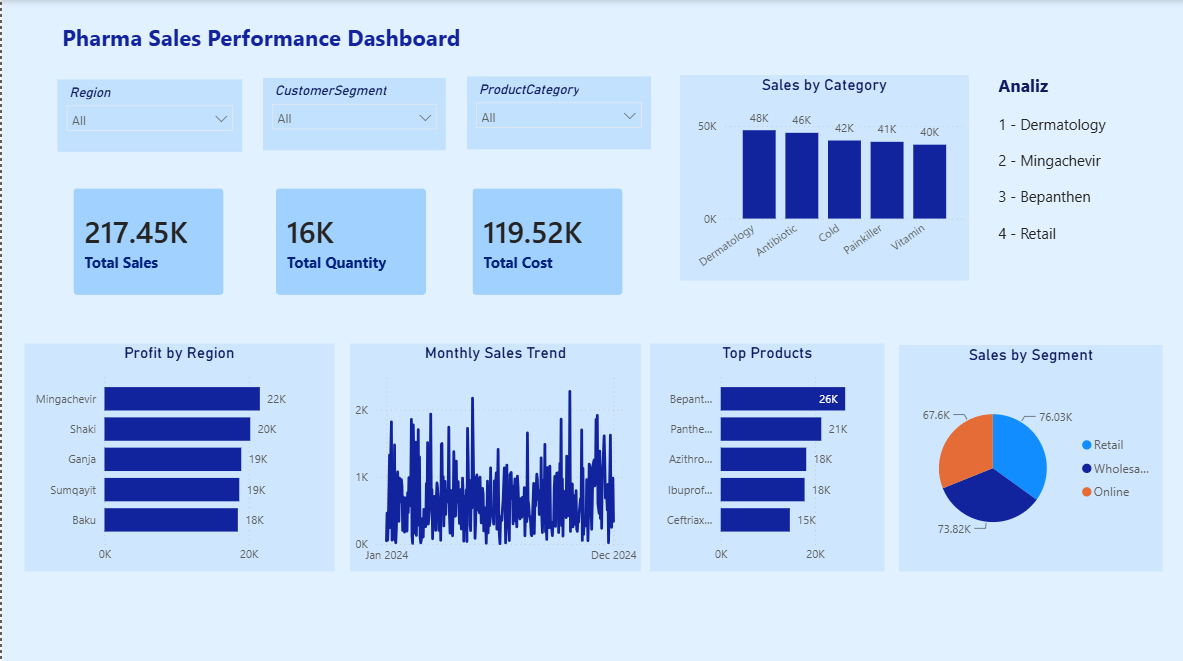

What the dashboard file says about the page in this screenshot:
{"tool":"powerbi","page":{"name":"Page 1","canvas":[1280,720],"ordinal":0},"visuals":[{"type":"slicer","fields":{"Values":["Sheet1.Region"]},"box":[59.9,85,199.2,77.7],"z":0},{"type":"slicer","fields":{"Values":["Sheet1.CustomerSegment"]},"box":[281.7,83.4,197.5,77.7],"z":1000},{"type":"cardVisual","fields":{"Data":["Sheet1.Total Sales"]},"box":[60.5,185.5,196.5,149.3],"z":3000},{"type":"cardVisual","fields":{"Data":["Sheet1.Total Quantity"]},"box":[277.8,185.5,196.5,149.3],"z":4000},{"type":"cardVisual","fields":{"Data":["Sheet1.Total Cost"]},"box":[491.3,185.5,196.5,149.3],"z":5000},{"type":"clusteredColumnChart","title":"Sales by Category","fields":{"Category":["Sheet1.ProductCategory"],"Y":["Sheet1.Total Sales"]},"box":[731.7,81.3,311.7,221.7],"z":6000},{"type":"barChart","title":"Profit by Region","fields":{"Category":["Sheet1.Region"],"Y":["Sheet1.Profit"]},"box":[24.6,370.7,334.5,245.7],"z":7000},{"type":"lineChart","title":"Monthly Sales Trend","fields":{"Y":["Sheet1.Total Sales"],"Category":["Sheet1.Date"]},"box":[375.7,371.4,314.1,246.1],"z":8000},{"type":"barChart","title":"Top Products","fields":{"Category":["Sheet1.Product"],"Y":["Sheet1.Total Sales"]},"box":[699.3,370.7,253.2,245.7],"z":9000},{"type":"pieChart","title":"Sales by Segment","fields":{"Category":["Sheet1.CustomerSegment"],"Y":["Sheet1.Total Sales"]},"box":[968.3,373,285,244.5],"z":10000},{"type":"textbox","box":[1070,74.6,210,221.7],"z":11000},{"type":"textbox","box":[60,18.3,446.7,51.7],"z":12000},{"type":"slicer","fields":{"Values":["Sheet1.ProductCategory"]},"box":[501.7,83.4,198.3,78.3],"z":12001}]}

Visuals, with their boxes in screenshot pixels (x1, y1, x2, y2), scaled from the page's 1280x720 canvas onto the 1183x661 screenshot:
slicer - Sheet1.Region: 55 78 239 149
slicer - Sheet1.CustomerSegment: 260 77 443 148
cardVisual - Sheet1.Total Sales: 56 170 238 307
cardVisual - Sheet1.Total Quantity: 257 170 438 307
cardVisual - Sheet1.Total Cost: 454 170 636 307
"Sales by Category" clusteredColumnChart: 676 75 964 278
"Profit by Region" barChart: 23 340 332 566
"Monthly Sales Trend" lineChart: 347 341 638 567
"Top Products" barChart: 646 340 880 566
"Sales by Segment" pieChart: 895 342 1158 567
textbox: 989 68 1182 272
textbox: 55 17 468 64
slicer - Sheet1.ProductCategory: 464 77 647 148
